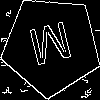M: (26, 21, 77, 75)
